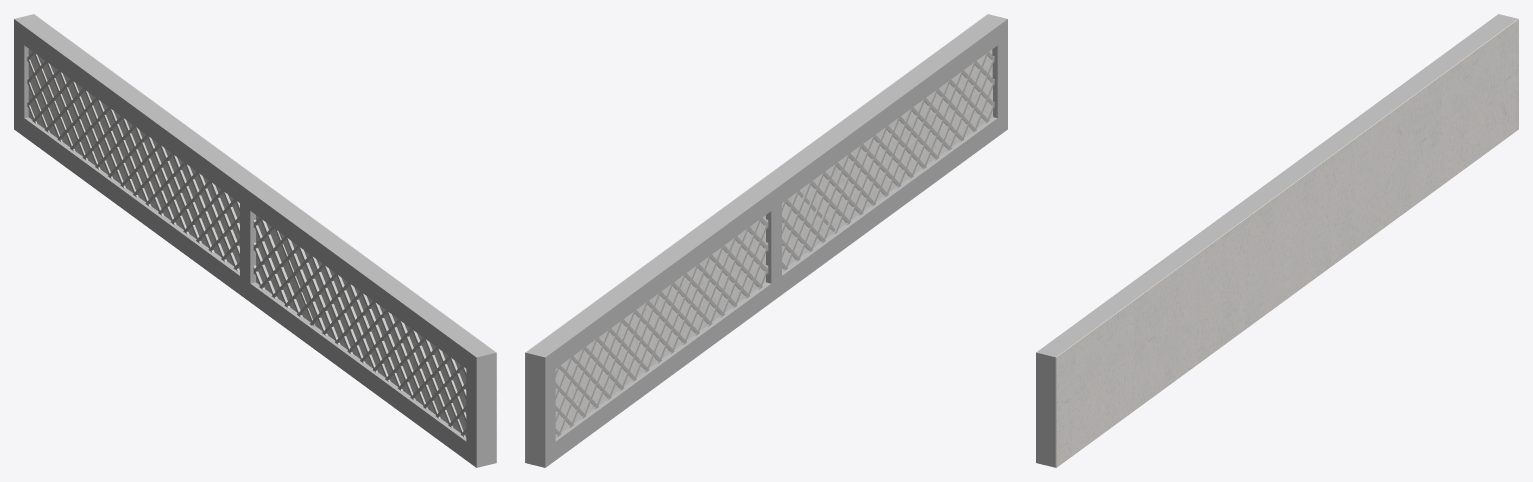
File: SM_Window02Z.fbx
3 renders of one model, left to right at view 1: azimuth 30°, elevation 25°; view 2: azimuth 150°, elevation 25°; view 3: azimuth 330°, elevation 25°, orthographic.
Visible parts, largest first — view 1: SM_Window02Z; view 2: SM_Window02Z; view 3: SM_Window02Z.
Part boxes in pixels (<box>): SM_Window02Z: <box>14,14,496,467</box>; SM_Window02Z: <box>525,14,1007,467</box>; SM_Window02Z: <box>1036,14,1518,467</box>.
Size of the model in its own units: 6.26 by 246 by 32.34.
